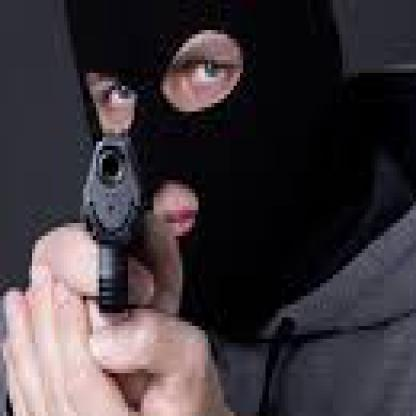gun: (67, 120, 157, 339)
